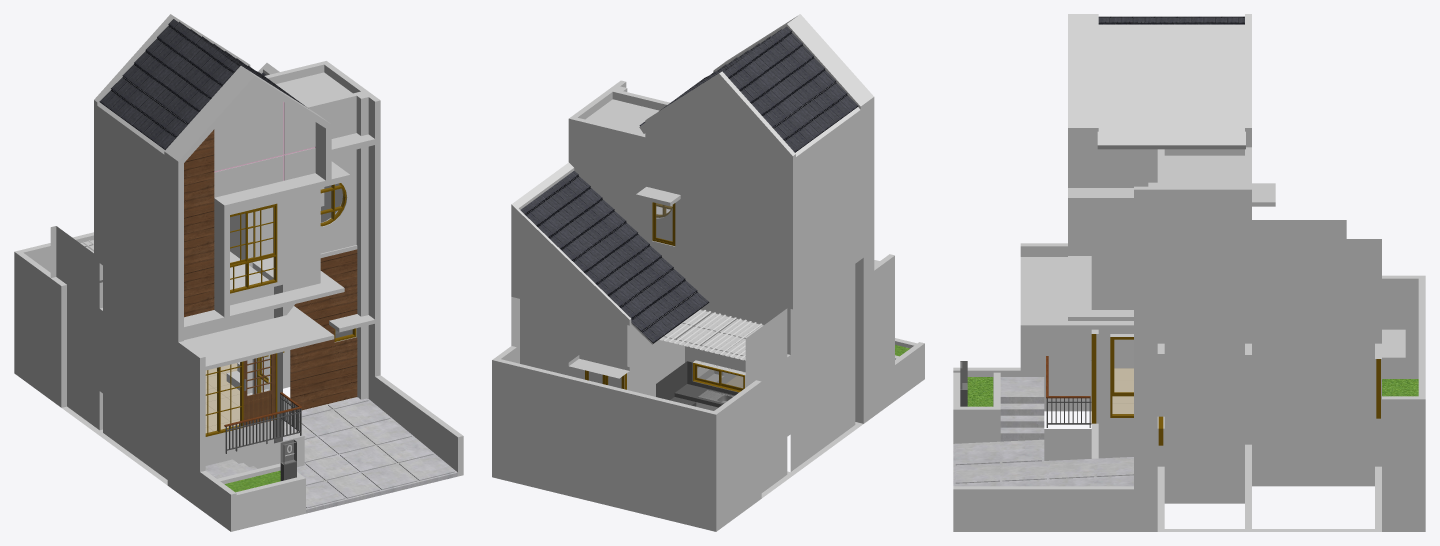
File: himawari-49.glb
3 views of the same model, side by side, from view 1: azimuth 30°, elevation 25°; view 2: azimuth 150°, elevation 25°; view 3: azimuth 270°, elevation 25° (orthographic). The views are drawn at different scales.
Parts seen in each view (by area): view 1: ID4, ID100, ID295, ID499, ID273, ID13, ID352, ID1167, ID47; view 2: ID4, ID499, ID352, ID675, ID273; view 3: ID4, ID100, ID273, ID47, ID499, ID13, ID352.
Boxes of the visible parts, left/top/right/bottom form: ID4: left=14, top=14, right=463, bottom=531; ID100: left=205, top=397, right=457, bottom=513; ID295: left=184, top=129, right=357, bottom=412; ID499: left=99, top=19, right=305, bottom=149; ID273: left=205, top=183, right=356, bottom=436; ID13: left=205, top=363, right=239, bottom=433; ID352: left=225, top=394, right=301, bottom=453; ID1167: left=243, top=353, right=275, bottom=427; ID47: left=224, top=470, right=280, bottom=492; ID4: left=492, top=14, right=924, bottom=531; ID499: left=520, top=26, right=858, bottom=343; ID352: left=656, top=361, right=738, bottom=407; ID675: left=588, top=203, right=743, bottom=388; ID273: left=585, top=202, right=744, bottom=392; ID4: left=953, top=14, right=1425, bottom=531; ID100: left=953, top=377, right=1133, bottom=486; ID273: left=1091, top=334, right=1380, bottom=445; ID47: left=967, top=377, right=1418, bottom=406; ID499: left=1098, top=16, right=1244, bottom=24; ID13: left=1112, top=368, right=1133, bottom=413; ID352: left=1046, top=398, right=1091, bottom=427.
Size of the model in its own units: 6.2 by 10.16 by 10.
Materials: 19 (10 with a texture image).
